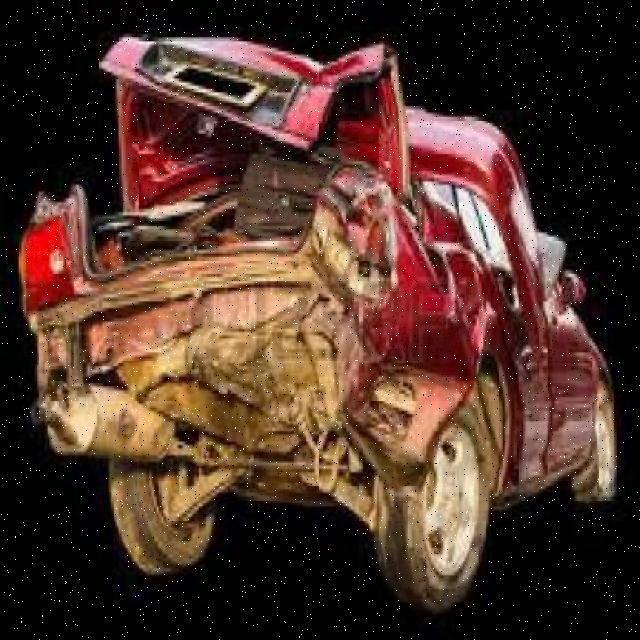damage: (25, 32, 620, 504)
